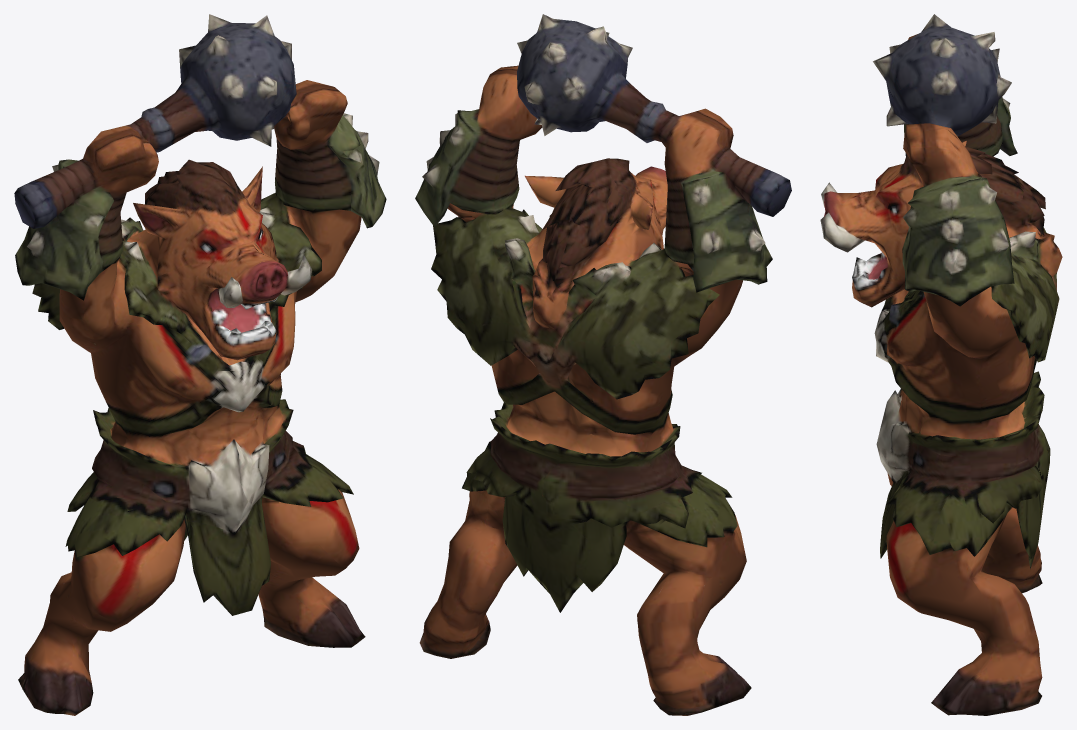
Rendered from tuskers_strike.glb.
3 views of the same model, side by side, from view 1: azimuth 30°, elevation 25°; view 2: azimuth 150°, elevation 25°; view 3: azimuth 270°, elevation 25° (orthographic). The views are drawn at different scales.
Visible parts, largest first — view 1: world; view 2: world; view 3: world.
Boxes of the visible parts, bbox=[...] form: world: bbox=[14, 14, 386, 715]; world: bbox=[415, 14, 791, 715]; world: bbox=[820, 14, 1062, 715].
Size of the model in its own units: 0.5908 by 0.9965 by 0.3461.
1 material, 1 textured.
